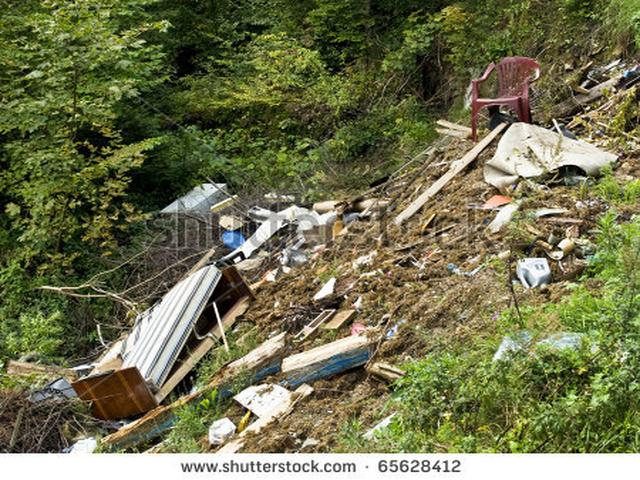garbage: (142, 303, 366, 437)
